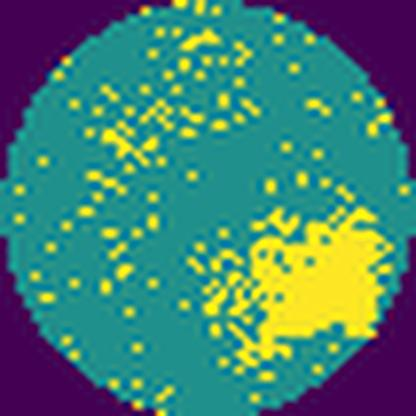Loc: (234, 206, 390, 359)
